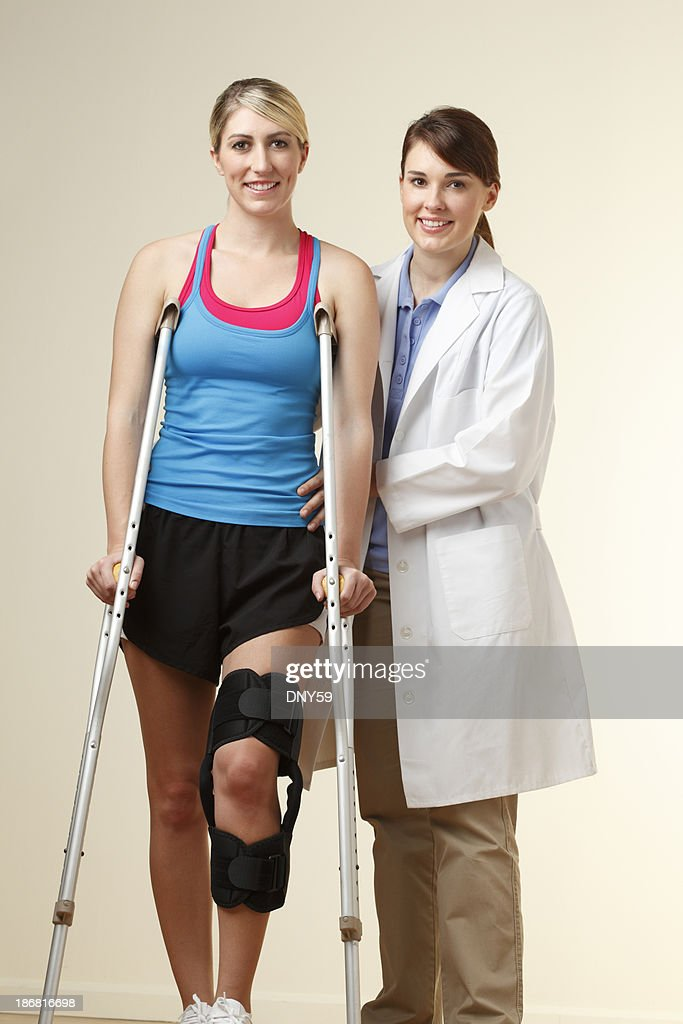crutches: (34, 78, 382, 1024)
